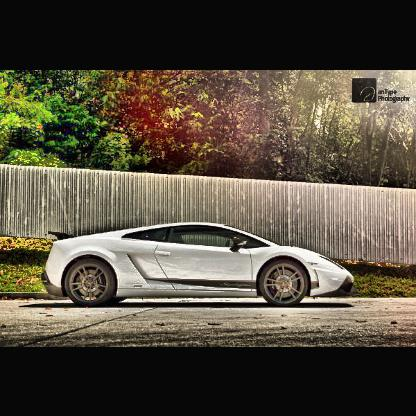Lamborghini Gallardo LP 570-4 Superleggera 2012: (47, 224, 356, 305)
